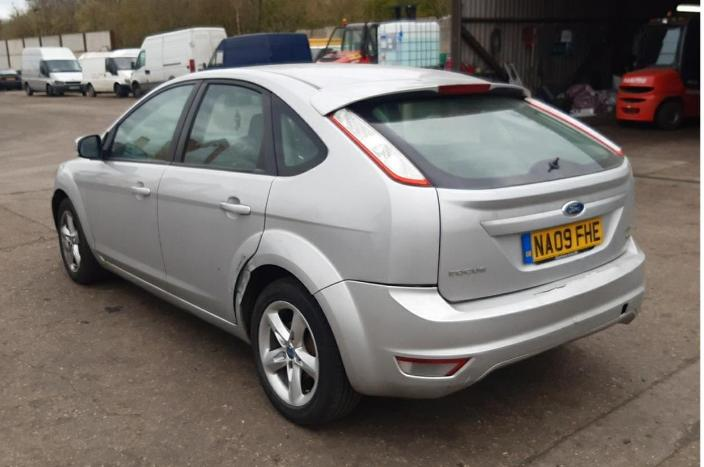Back-bumper: (314, 237, 645, 398)
Back-door: (157, 79, 278, 323)
Back-wheel: (250, 277, 362, 425)
Back-window: (183, 84, 266, 169), (272, 94, 328, 177)
Back-windshield: (346, 97, 623, 189)
Fender: (52, 157, 96, 253)
Front-door: (87, 79, 203, 290)
Front-wheel: (58, 198, 106, 285)
Front-window: (102, 84, 195, 161)
License-plate: (522, 216, 602, 263)
Mirror: (75, 133, 106, 159)
Quarter-panel: (236, 160, 441, 324)
Rocker-panel: (92, 251, 251, 344)
Roof: (175, 63, 481, 90)
Tail-light: (329, 107, 433, 187), (523, 98, 623, 158)
Trunk: (436, 157, 634, 302), (311, 77, 530, 117)
